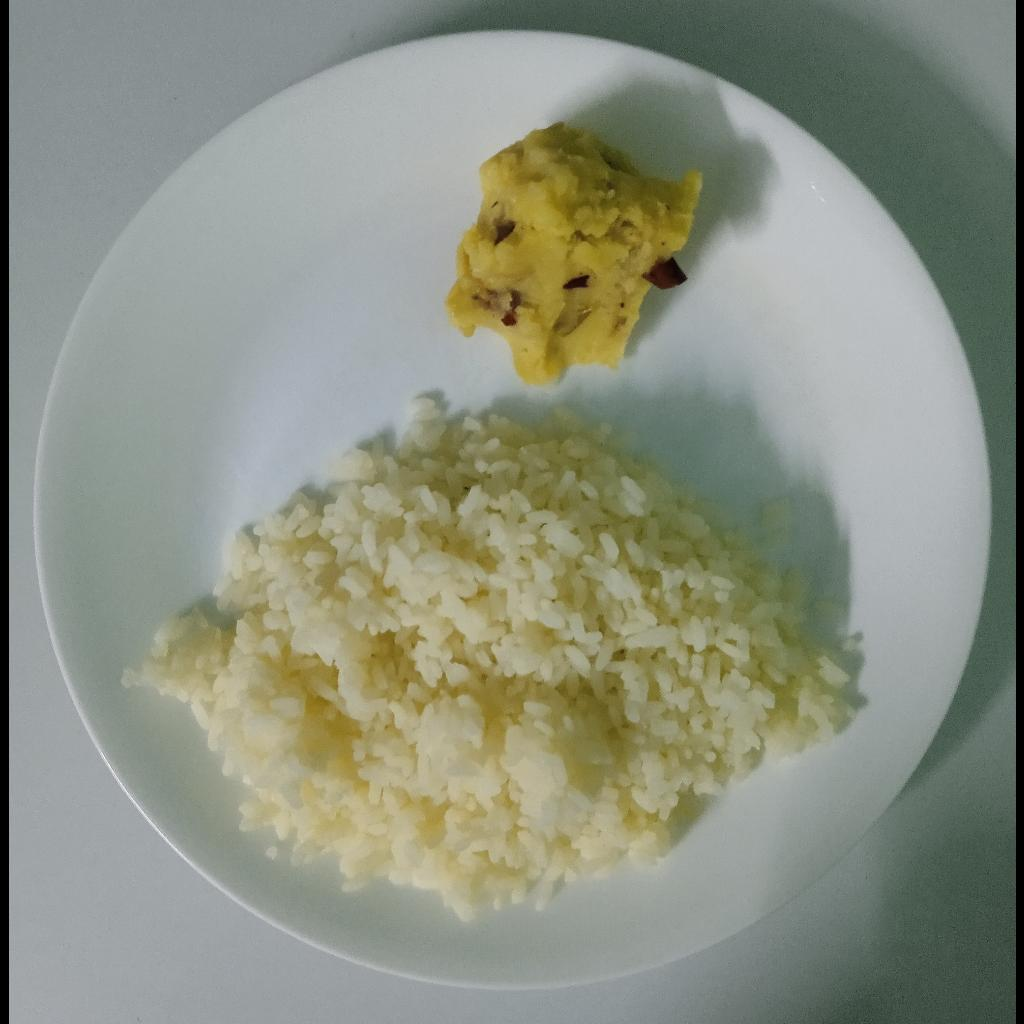potato-mashed: (445, 121, 702, 386)
rice: (116, 403, 860, 927)
